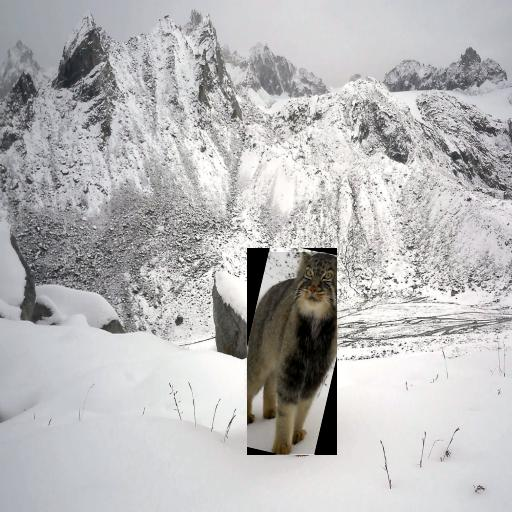manul: (247, 253, 337, 454)
